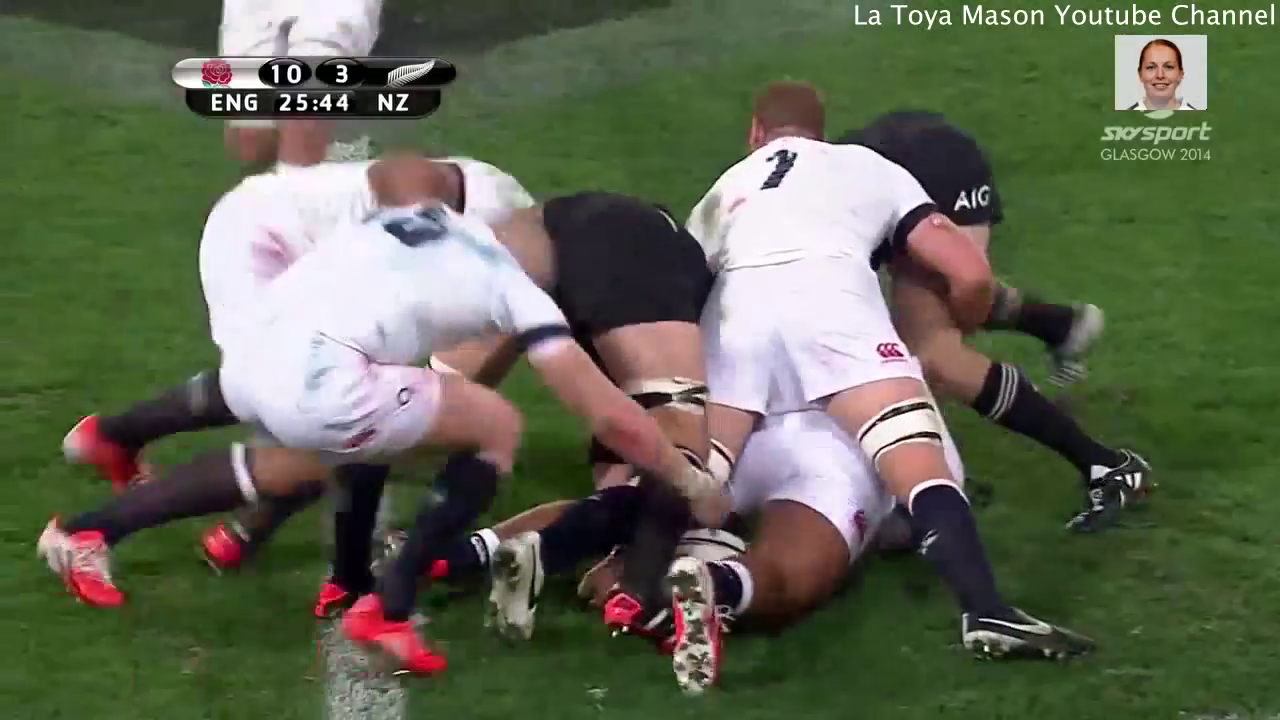player: (16, 176, 613, 690), (643, 57, 1105, 701), (493, 168, 767, 524)
ruck: (104, 82, 1126, 720)
